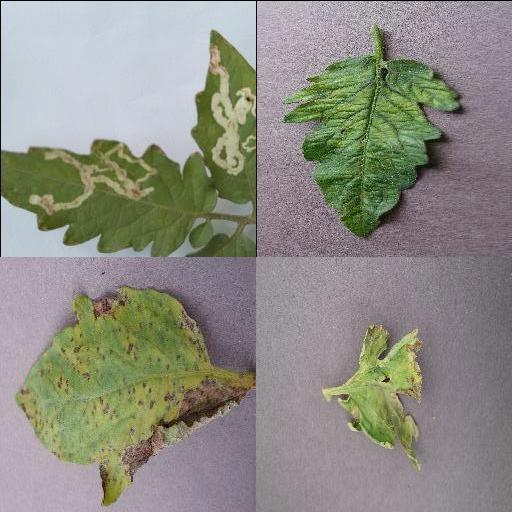Late Blight: (335, 318, 425, 468)
Leaf Miner: (0, 138, 208, 256), (190, 28, 256, 205)
Mosaic Virus: (280, 53, 462, 239)
Septoria: (14, 286, 256, 504)
